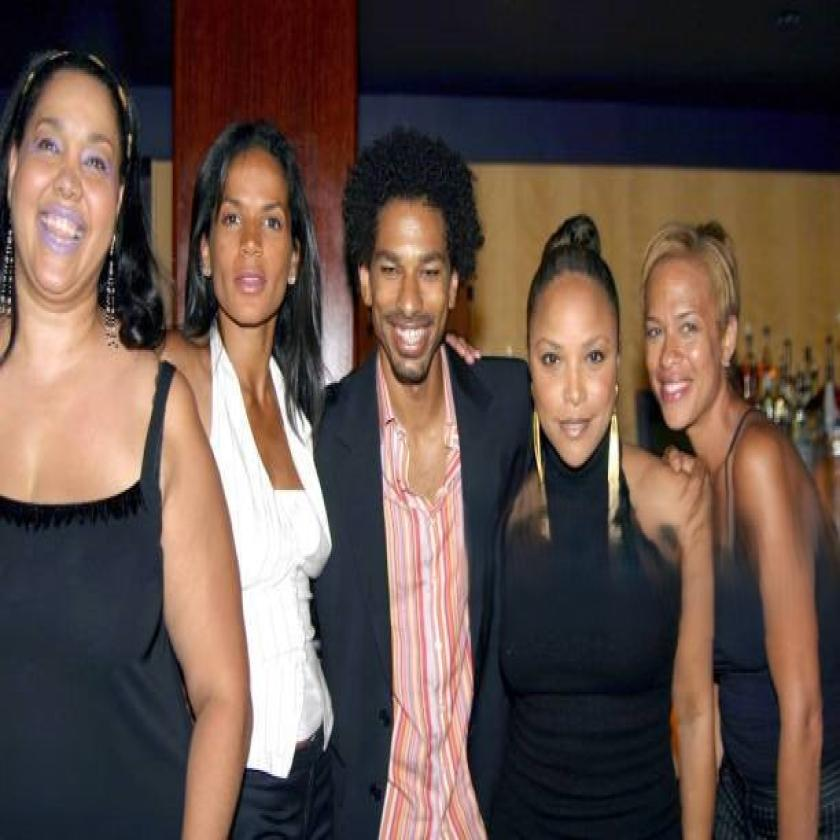Sin_casco: (9, 39, 137, 333), (357, 134, 475, 408), (192, 113, 309, 364), (637, 216, 749, 474), (522, 227, 624, 478)
